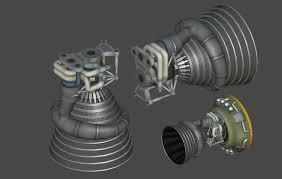thruster: (46, 88, 138, 175), (176, 1, 262, 93), (160, 120, 201, 167)
